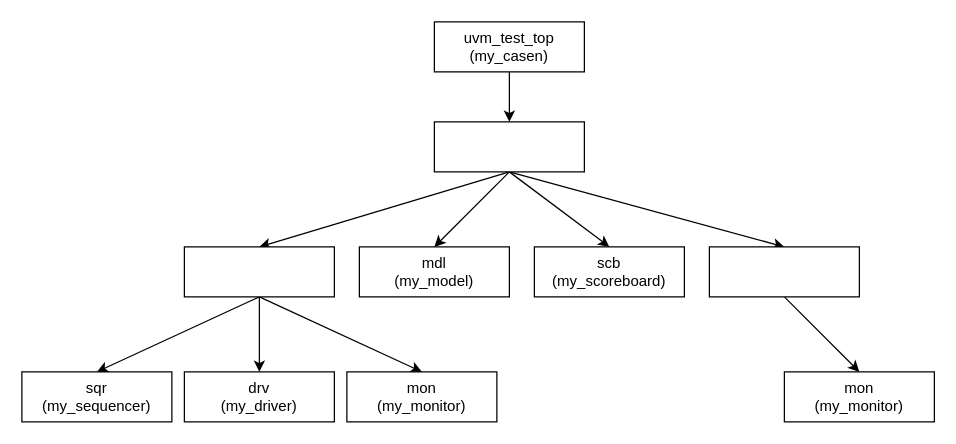
The diagram is 956 pixels wide and 444 high, and some of its shapes have lost their labels. Each missing label, with the centre of its shape:
"env (my_env)" goes at pixel 508 146.
"i_apt (my_agent)" goes at pixel 258 271.
"o_apt (my_agent)" goes at pixel 783 271.
